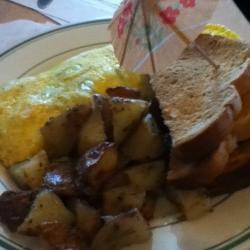bread: (152, 32, 248, 146)
omelette: (4, 56, 136, 138)
